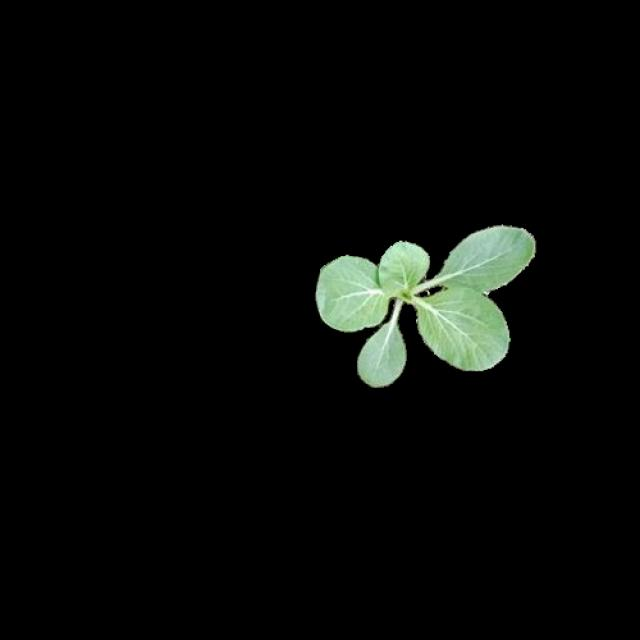healthy: (311, 223, 534, 384)
not-mature: (314, 225, 536, 387)
